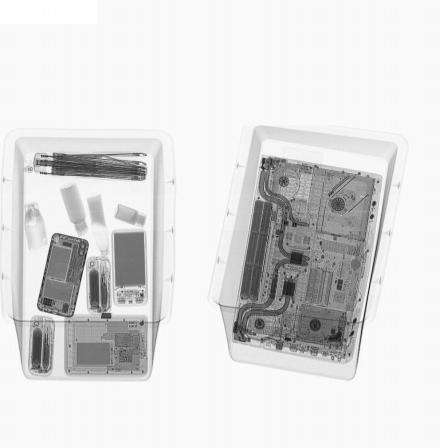Powerbank: (110, 228, 150, 307)
